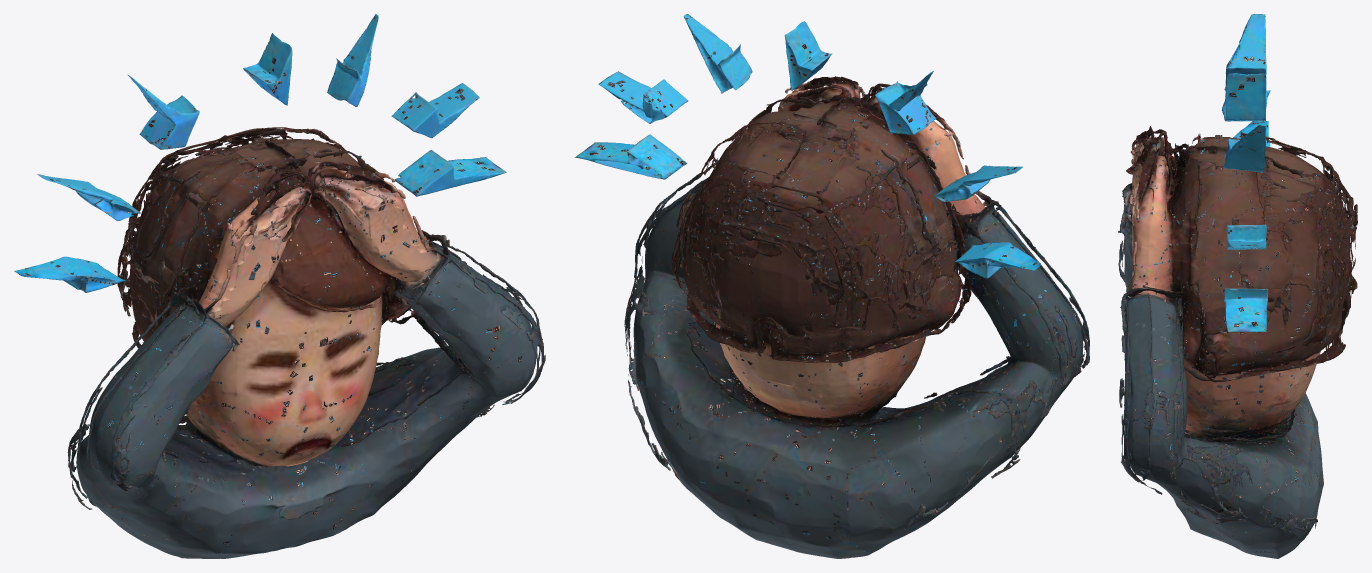
File: headache-model-3d.glb
3 views of the same model, side by side, from view 1: azimuth 30°, elevation 25°; view 2: azimuth 150°, elevation 25°; view 3: azimuth 270°, elevation 25° (orthographic). The views are drawn at different scales.
Visible parts, largest first — view 1: Headache; view 2: Headache; view 3: Headache.
Part boxes in pixels (x1,y1,x2,y2): Headache: [14, 14, 545, 558]; Headache: [574, 14, 1089, 558]; Headache: [1118, 14, 1357, 558].
Size of the model in its own units: 1.88 by 1.98 by 0.9032.
1 material, 1 textured.
